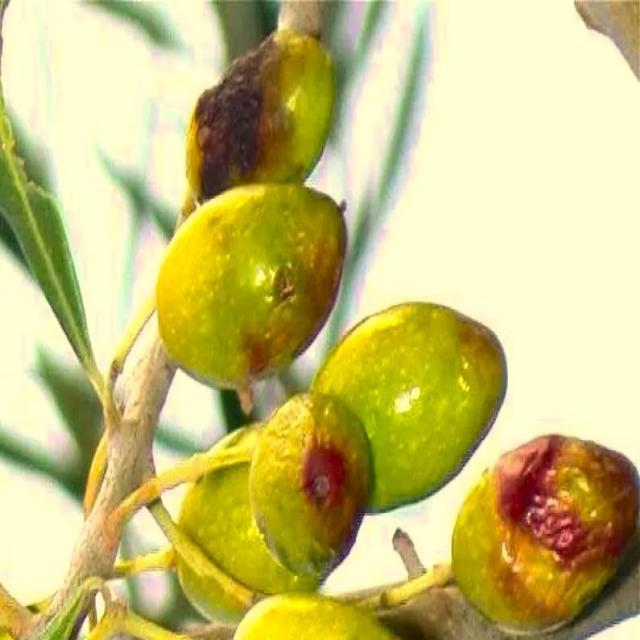Anthracnose: (452, 434, 640, 638), (156, 183, 347, 381), (187, 28, 334, 202), (248, 396, 374, 570)
